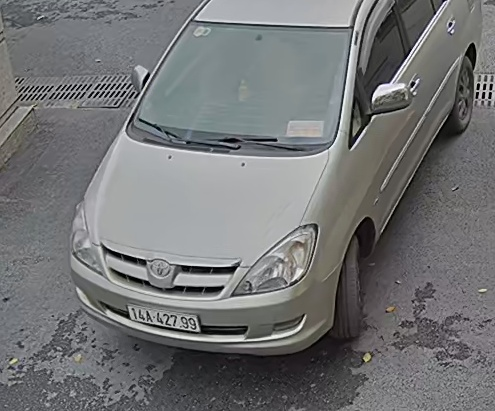vehicle plate: (124, 298, 208, 338)
